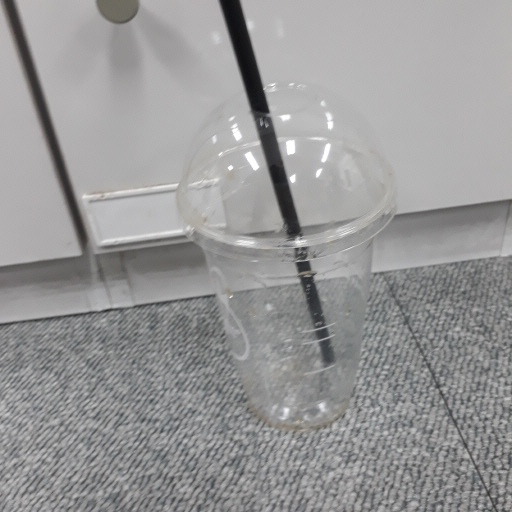Plastic_2: (173, 4, 398, 429)
